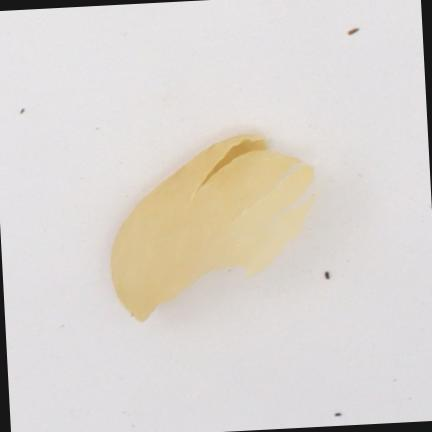parchment: (111, 136, 314, 320)
